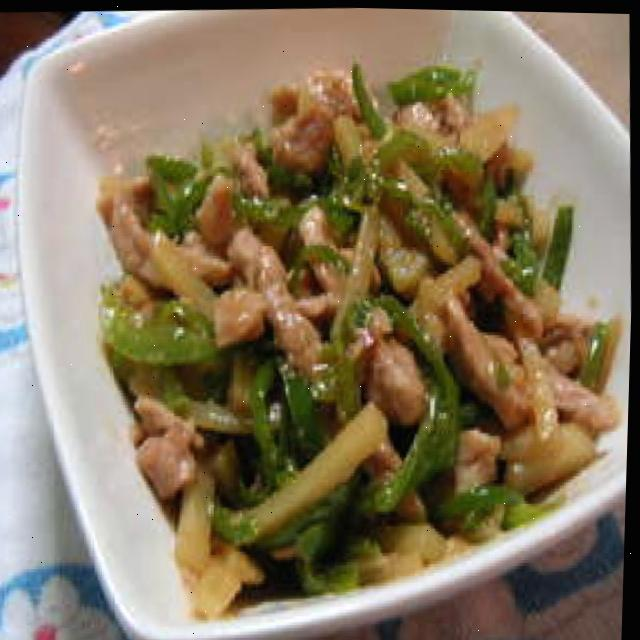牛肉菜式: (18, 25, 639, 613)
